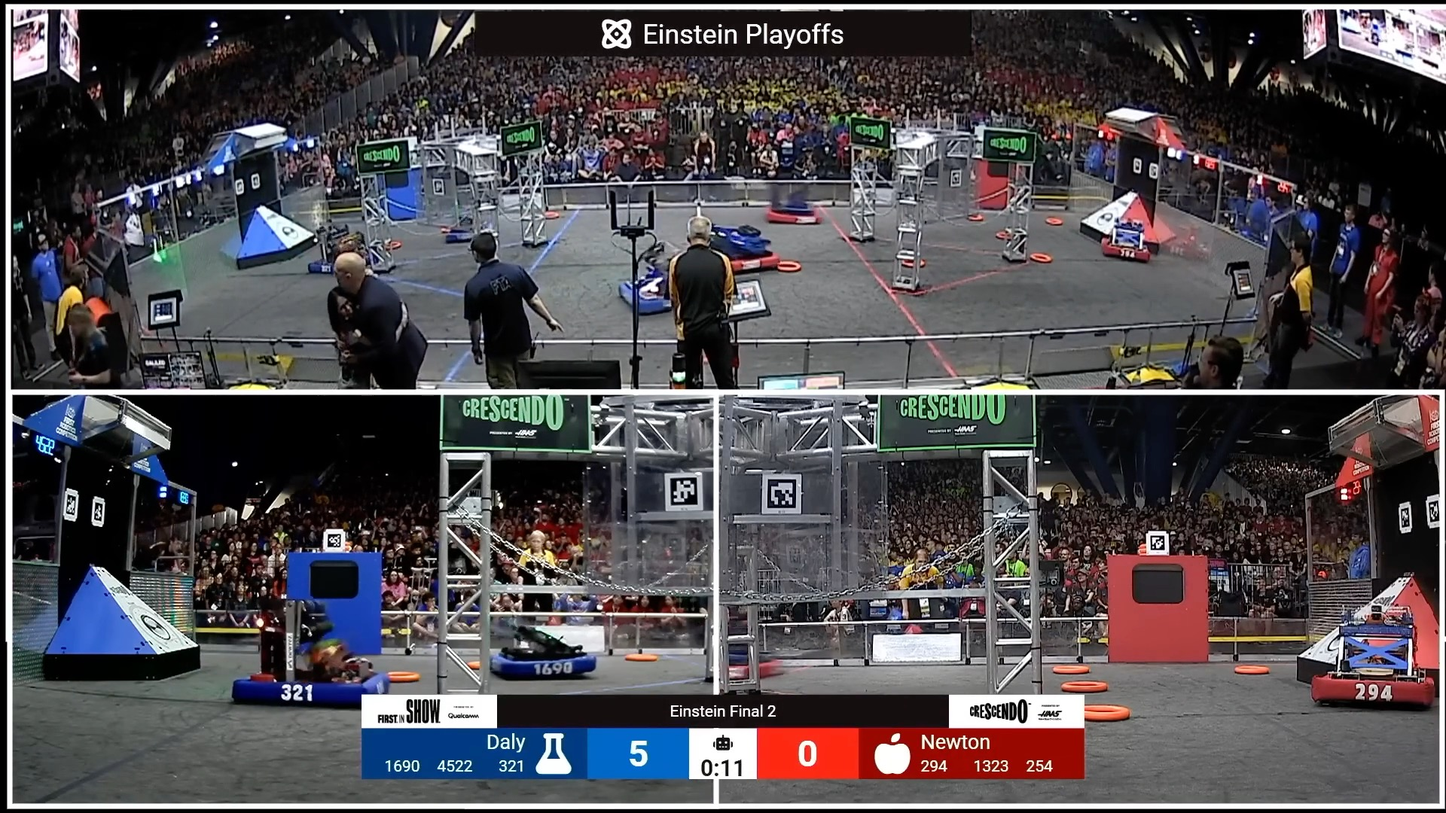bumpers: (231, 658, 400, 718), (1298, 667, 1440, 717), (475, 640, 599, 683), (1086, 216, 1180, 268), (612, 271, 690, 321), (709, 231, 793, 277), (697, 658, 794, 685), (306, 253, 389, 279), (761, 205, 825, 230)
